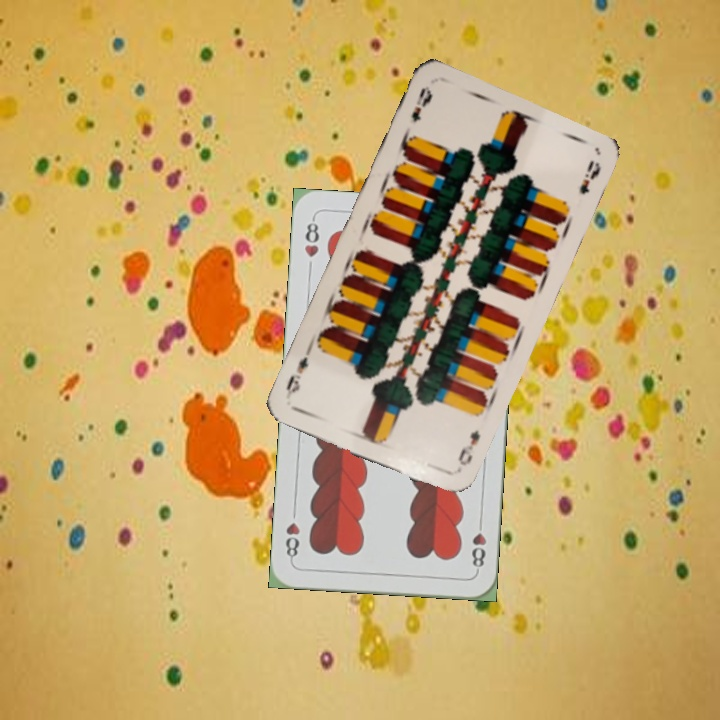E9: (454, 425, 483, 468), (407, 82, 435, 126)
H8: (467, 515, 489, 574), (300, 214, 322, 260)
